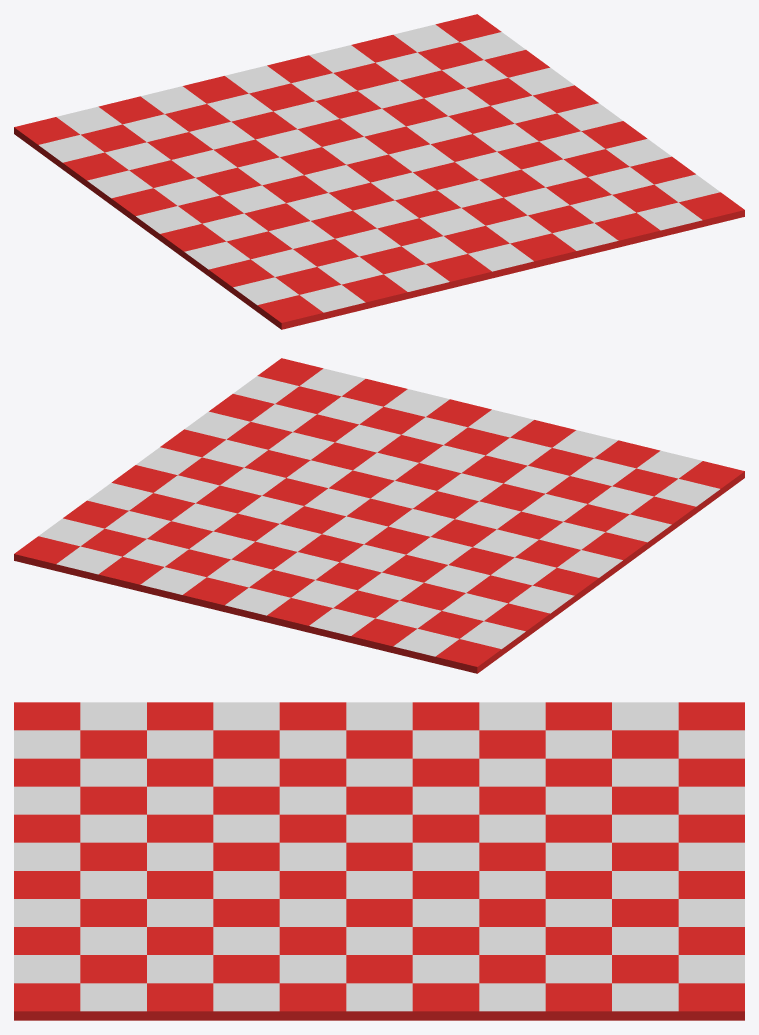
The model's file is Picnic-blanket.fbx.
The picture shows the model from 3 angles, top to bottom: view 1: azimuth 30°, elevation 25°; view 2: azimuth 150°, elevation 25°; view 3: azimuth 270°, elevation 25°; orthographic projection. The views are drawn at different scales.
Visible parts, largest first — view 1: Plane; view 2: Plane; view 3: Plane.
Part boxes in pixels (x1,y1,x2,y2): Plane: (14,14,744,329); Plane: (14,358,744,673); Plane: (14,702,744,1020).
Bounding box in the file's own units: 953 × 13.42 × 953.
